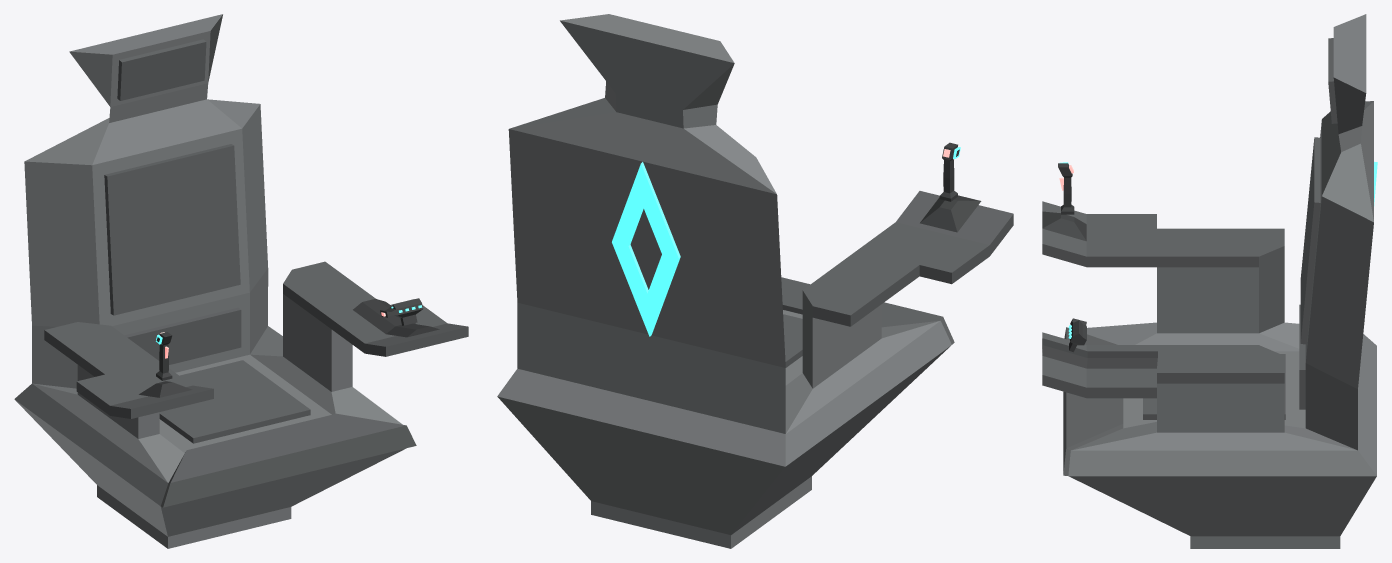
Rendered from Cockpit_Chair_LODGroup.fbx.
The picture shows the model from 3 angles, left to right: view 1: azimuth 30°, elevation 25°; view 2: azimuth 150°, elevation 25°; view 3: azimuth 270°, elevation 25°; orthographic projection. The views are drawn at different scales.
Parts seen in each view (by area): view 1: Cockpit Chair_LOD0; view 2: Cockpit Chair_LOD0; view 3: Cockpit Chair_LOD0.
Part boxes in pixels (<box>): Cockpit Chair_LOD0: <box>14,14,468,548</box>; Cockpit Chair_LOD0: <box>497,14,1013,548</box>; Cockpit Chair_LOD0: <box>1042,14,1377,548</box>.
Size of what is drawn, in the model's own units: 1.43 by 1.79 by 1.17.
